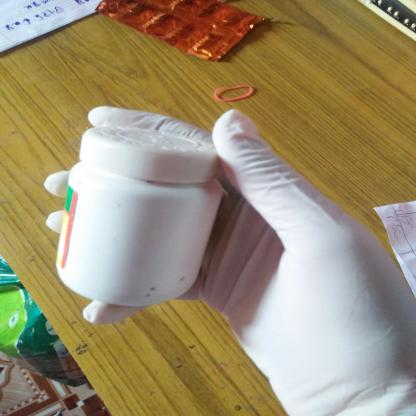gloved_hand: (44, 106, 415, 416)
